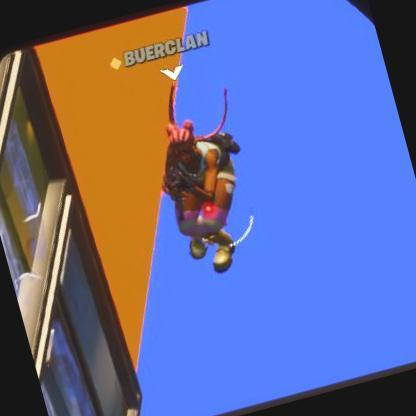person: (155, 114, 253, 262)
